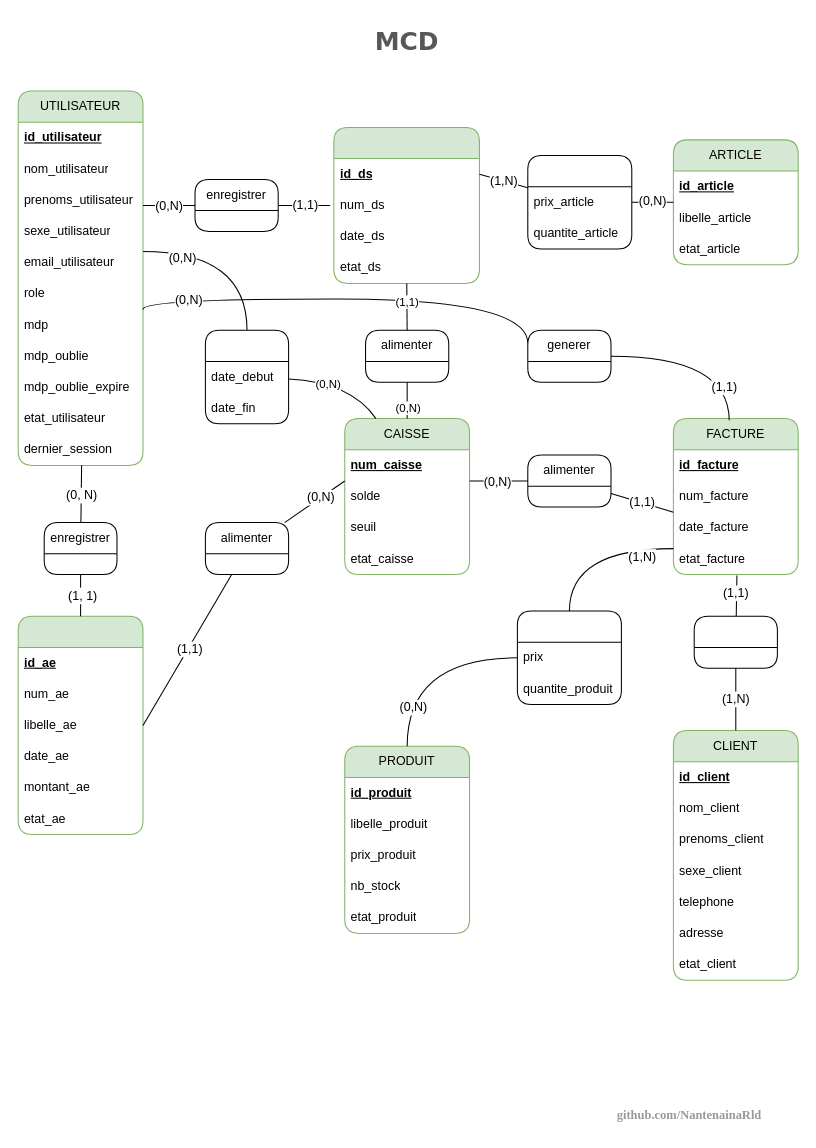
This 816x1148 diagram has some shape labels left out. Each missing label, with the box of its shape:
AUTRE_ENTREE: (17, 615, 143, 835)
avoir: (693, 615, 777, 668)
composer: (527, 154, 632, 249)
contenir: (516, 610, 621, 705)
DEMANDE_SORTIE: (333, 126, 479, 283)
gerer: (204, 329, 289, 424)
